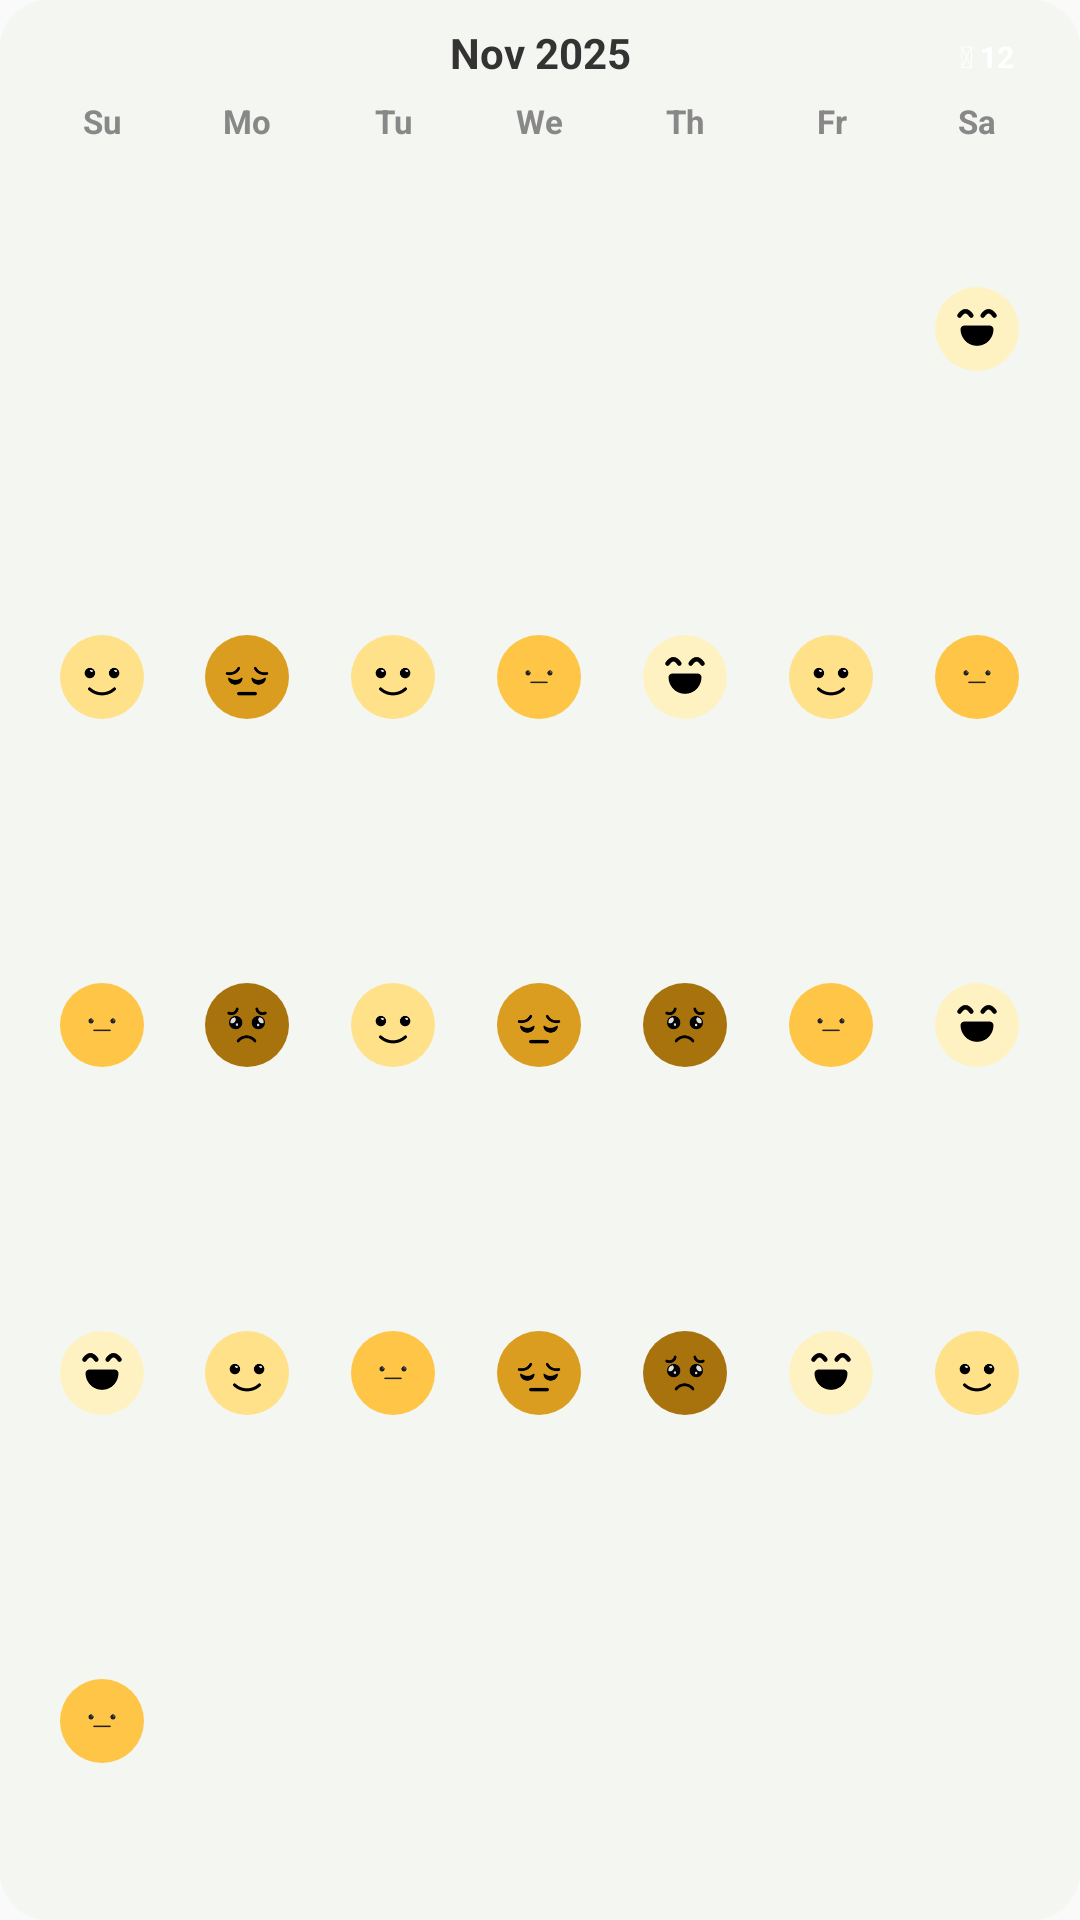

Where to tap for icons on this 1080x1920 app screen, as [x,y]:
happy: [102,677], [393,677], [831,677], [393,1025], [247,1373], [977,1373]
neutral: [539,677], [977,677], [102,1025], [831,1025], [393,1373], [102,1721]
sad: [247,677], [539,1025], [539,1373]
very happy: [977,329], [685,677], [977,1025], [102,1373], [831,1373]
very sad: [247,1025], [685,1025], [685,1373]
